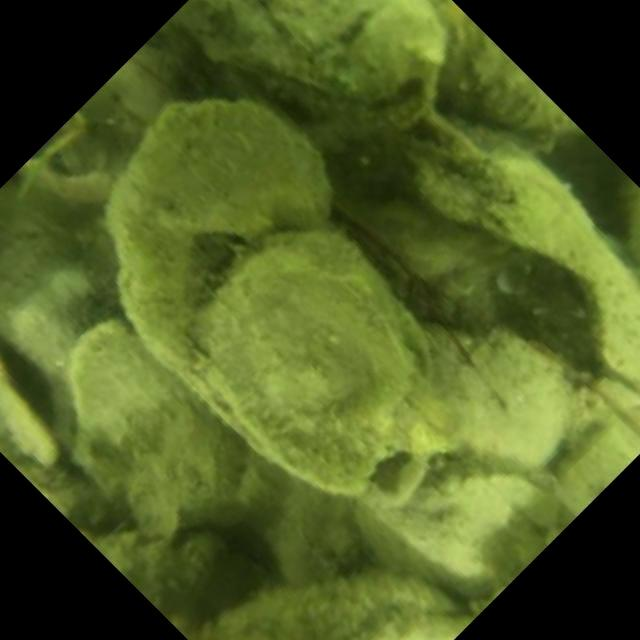Oyster-Closed: (191, 218, 431, 512), (106, 96, 330, 367), (67, 323, 242, 517), (192, 0, 453, 115), (215, 569, 464, 640)
